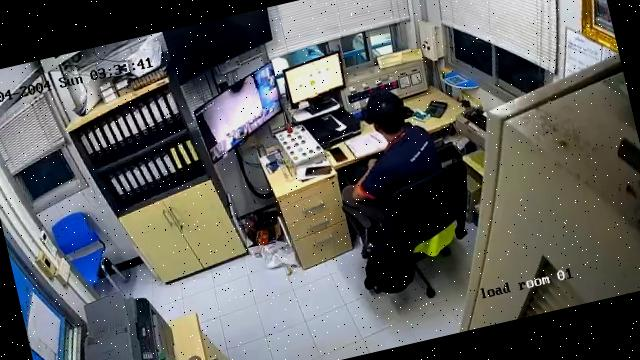Head: (363, 88, 413, 138)
People: (343, 92, 442, 223)
Phone: (327, 146, 349, 163), (305, 165, 333, 176)
